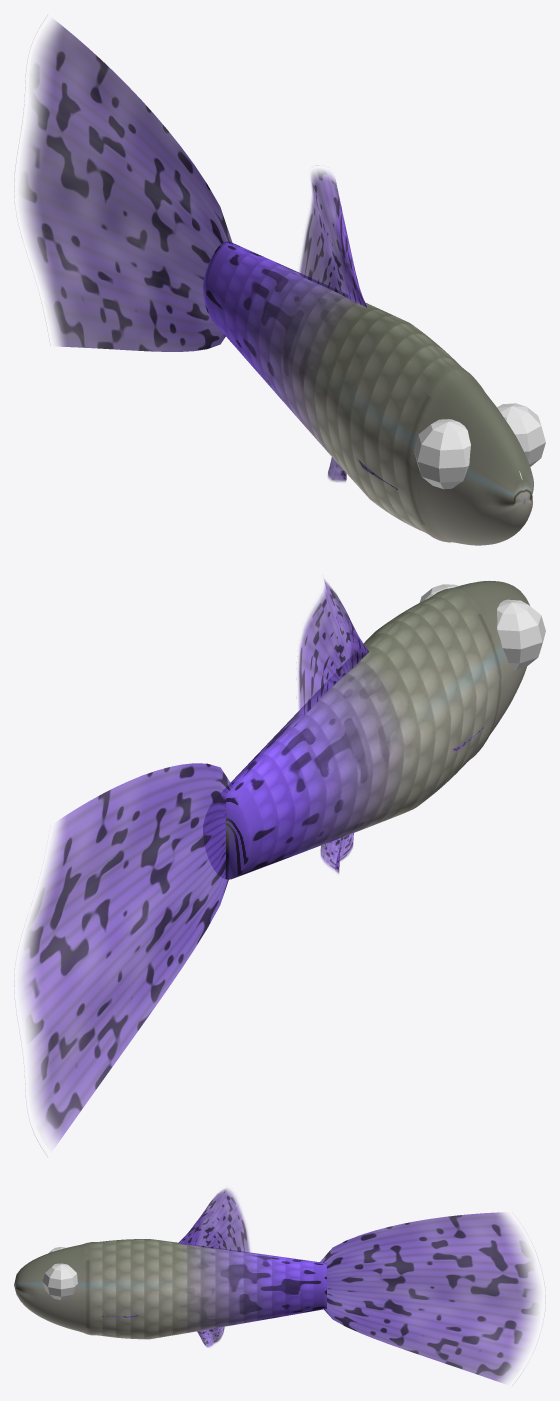
The model's file is guppy-4.glb.
3 views of the same model, one above another, from view 1: azimuth 30°, elevation 25°; view 2: azimuth 150°, elevation 25°; view 3: azimuth 270°, elevation 25° (orthographic). The views are drawn at different scales.
Visible parts, largest first — view 1: Fins, Body, EyeL, EyeR; view 2: Fins, Body, EyeL; view 3: Fins, Body, EyeR.
Boxes of the visible parts, x1,y1,x2,y2 form: Fins: (14, 21, 367, 481); Body: (203, 241, 533, 545); EyeL: (414, 419, 470, 489); EyeR: (497, 403, 545, 466); Fins: (14, 579, 369, 1156); Body: (203, 580, 529, 879); EyeL: (497, 599, 545, 669); Fins: (178, 1189, 545, 1383); Body: (14, 1239, 326, 1339); EyeR: (42, 1263, 77, 1299).
Size of the model in its own units: 0.0866 by 0.2524 by 0.6092.
2 materials, 2 textured.
